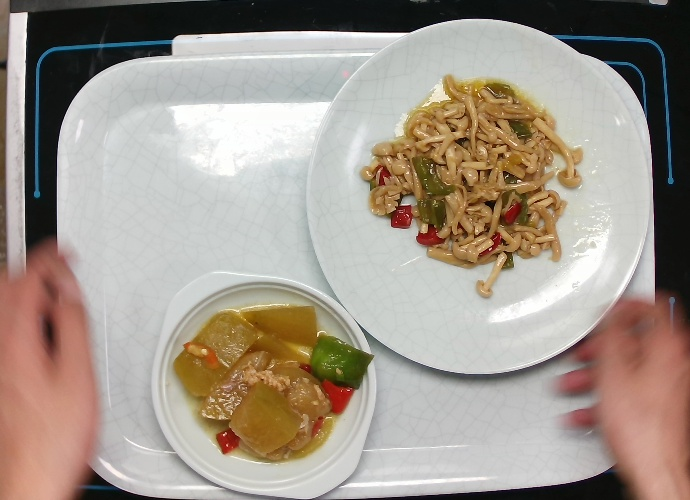JYsf-Da_Yuan_Pan: (303, 16, 653, 377)
JYsf-Shuang_Er_Pan: (149, 267, 378, 500)
